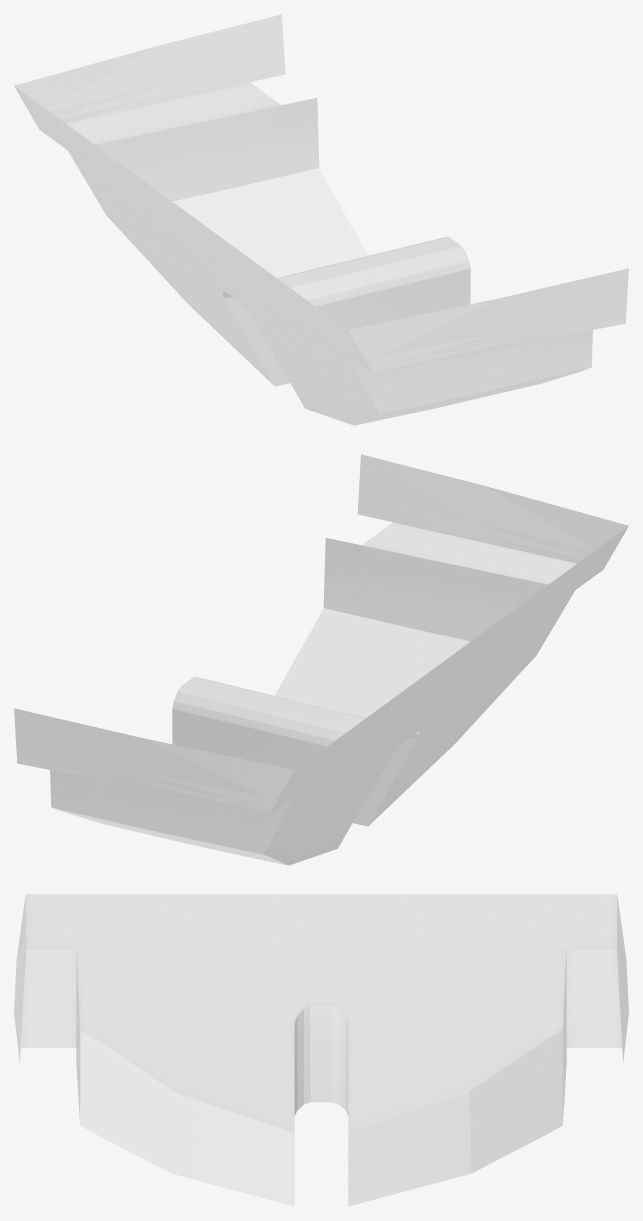
Rendered from HLO_Pod_Bottom_Rear.gltf.
3 views of the same model, one above another, from view 1: azimuth 30°, elevation 25°; view 2: azimuth 150°, elevation 25°; view 3: azimuth 270°, elevation 25° (orthographic). The views are drawn at different scales.
Visible parts, largest first — view 1: 004_Pod_Bottom_Rear; view 2: 004_Pod_Bottom_Rear; view 3: 004_Pod_Bottom_Rear.
Part boxes in pixels (x1,y1,x2,y2): 004_Pod_Bottom_Rear: (14, 14, 628, 425); 004_Pod_Bottom_Rear: (14, 454, 628, 865); 004_Pod_Bottom_Rear: (14, 894, 628, 1206).
Bounding box in the file's own units: 1.31 × 0.9981 × 2.88.
1 material, 1 textured.
